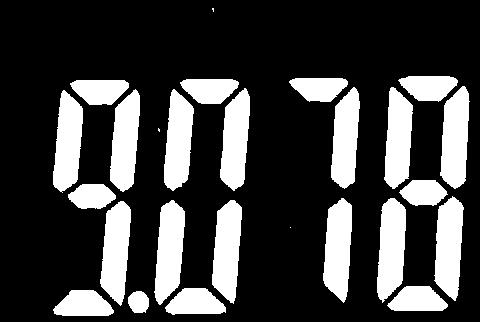0: (156, 75, 250, 318)
7: (280, 74, 361, 302)
8: (378, 69, 469, 315)
9: (47, 77, 141, 319)
dot: (126, 288, 150, 314)
